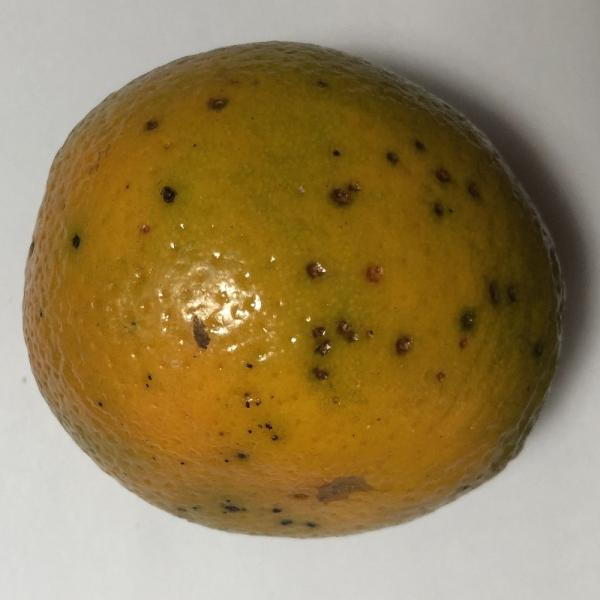Machas negras: (18, 27, 580, 542)
